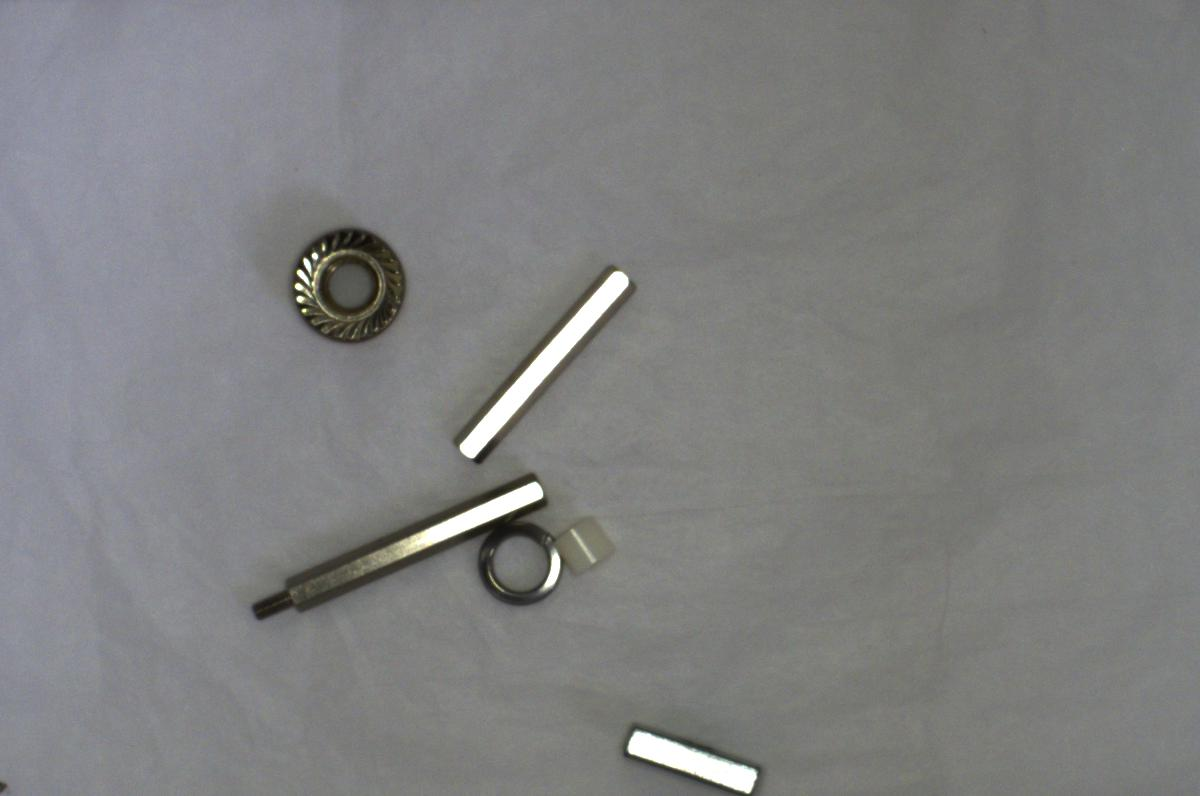Double hexagonal column: (447, 245, 637, 466)
Flange nut: (282, 222, 408, 343)
Hexagonal steel column: (237, 460, 551, 629)
Plastic cushion pillar: (550, 507, 624, 581)
Rectangular nut: (610, 713, 761, 795)
Spring washer: (477, 521, 562, 602)
